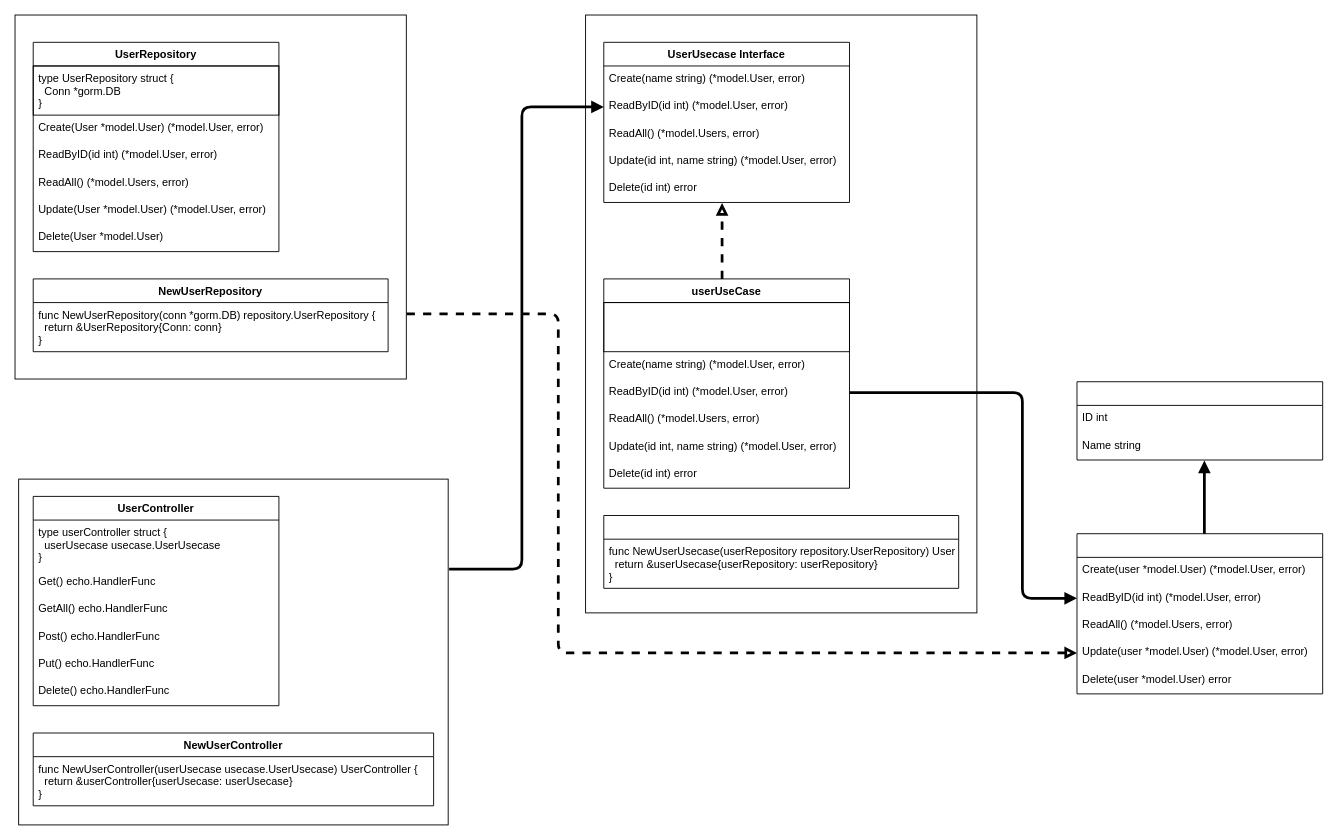
Some shapes in this 1338 by 840 pixel diagram are drawn without their labels. The box of each missing label's shape, as (x1, y1, x2, y2) in pixels:
NewUserCase: (603, 515, 959, 588)
type userUsecase struct { userRepository repository.UserRepository }: (603, 302, 849, 352)
User: (1076, 381, 1323, 460)
UserRepository Interface: (1076, 533, 1323, 694)
